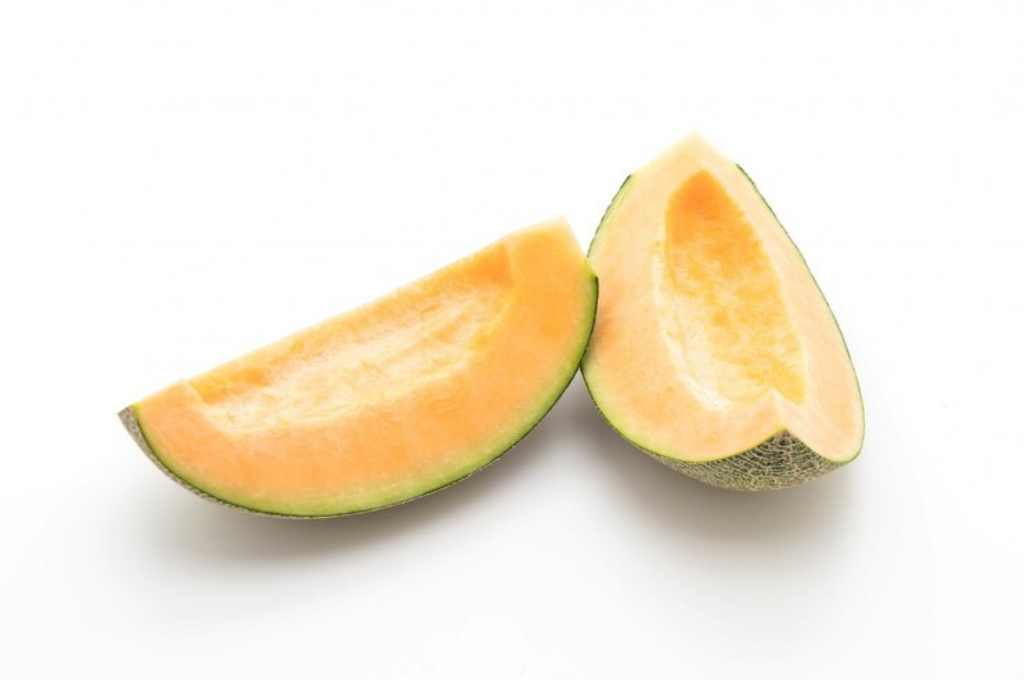Melon: (136, 208, 607, 558), (571, 136, 839, 500)
